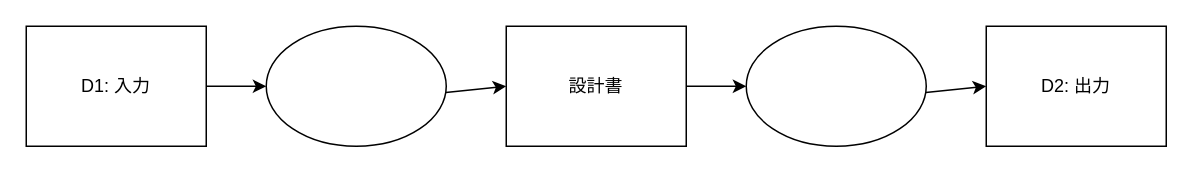
Some shapes in this 1193 by 173 pixel diagram are drawn without their labels. Here are the shapes that lost their labels. From the top down, the box of each, then its label:
(265, 25, 446, 146): 設計する
(745, 25, 926, 146): 実装する
